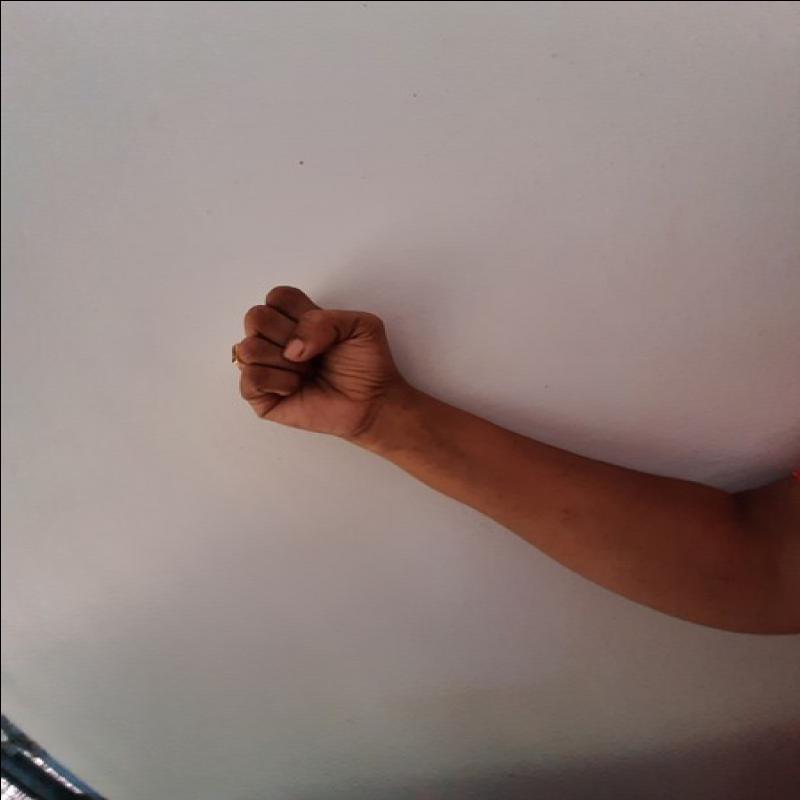Mushti: (229, 279, 391, 449)
